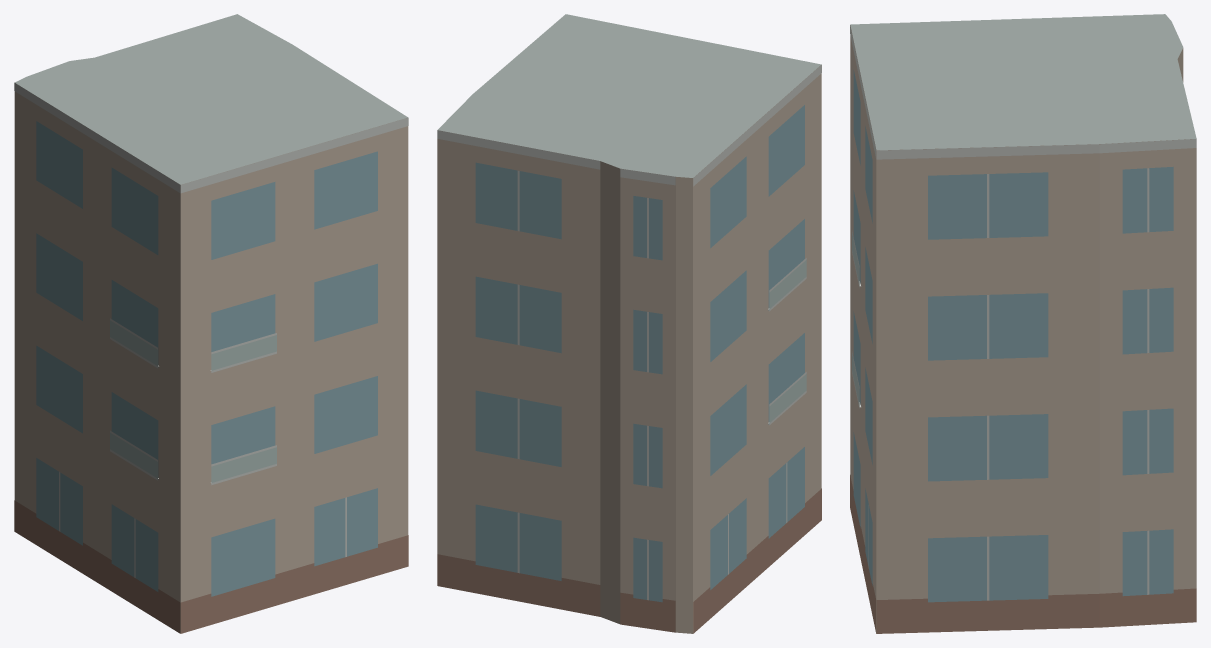
Rendered from survey-upis-32457819.glb.
The picture shows the model from 3 angles, left to right: view 1: azimuth 30°, elevation 25°; view 2: azimuth 150°, elevation 25°; view 3: azimuth 270°, elevation 25°; orthographic projection. The views are drawn at different scales.
Visible parts, largest first — view 1: survey-upis-32457819.tmp; view 2: survey-upis-32457819.tmp; view 3: survey-upis-32457819.tmp.
Part boxes in pixels (x1,y1,x2,y2): survey-upis-32457819.tmp: (14,14,408,633); survey-upis-32457819.tmp: (437,14,821,633); survey-upis-32457819.tmp: (850,14,1196,633).
Bounding box in the file's own units: 7.76 × 12.8 × 8.32.
